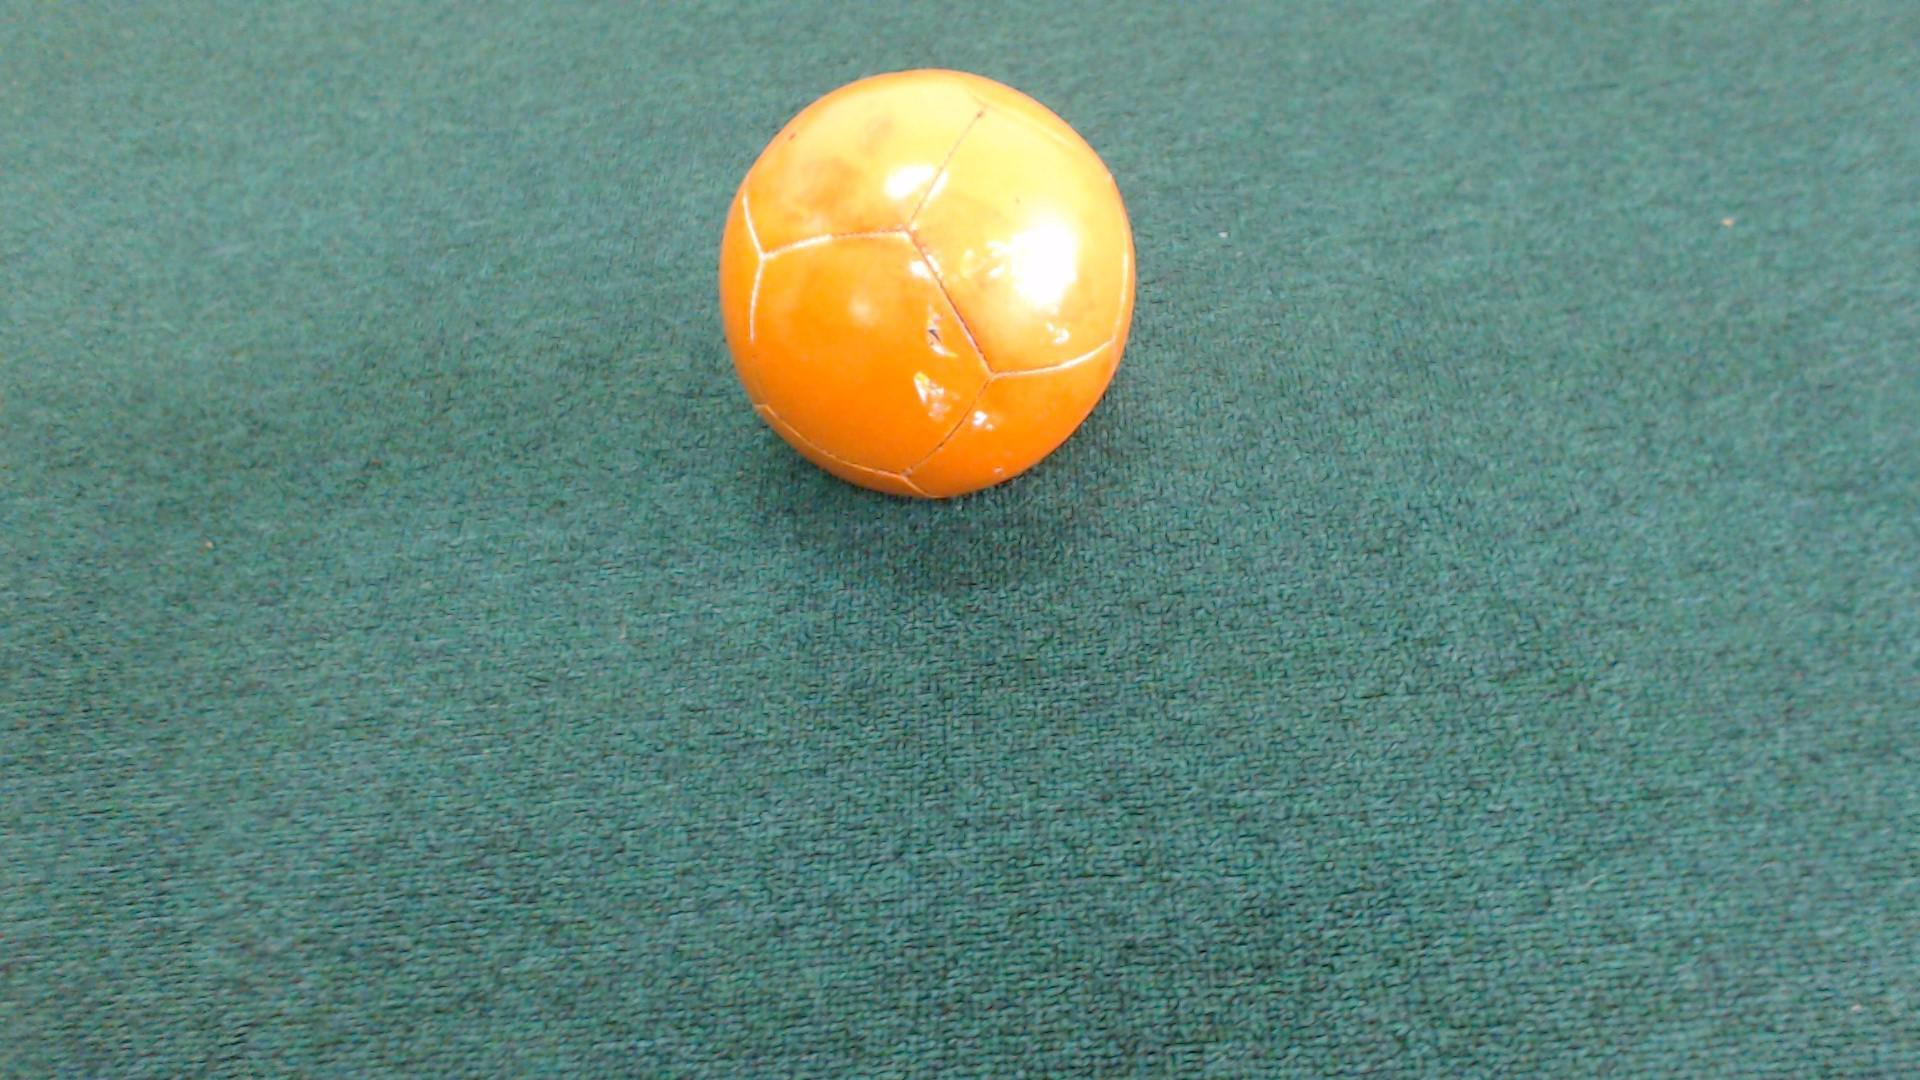bola: (680, 62, 1156, 526)
